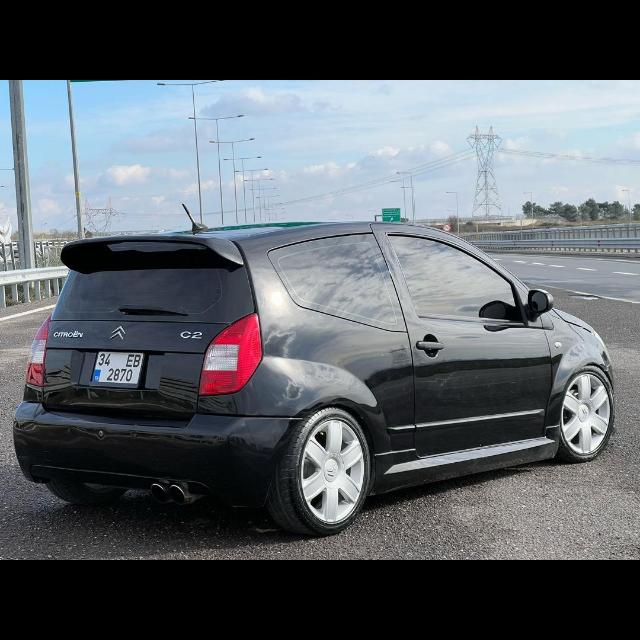Plaka: (92, 350, 144, 384)
